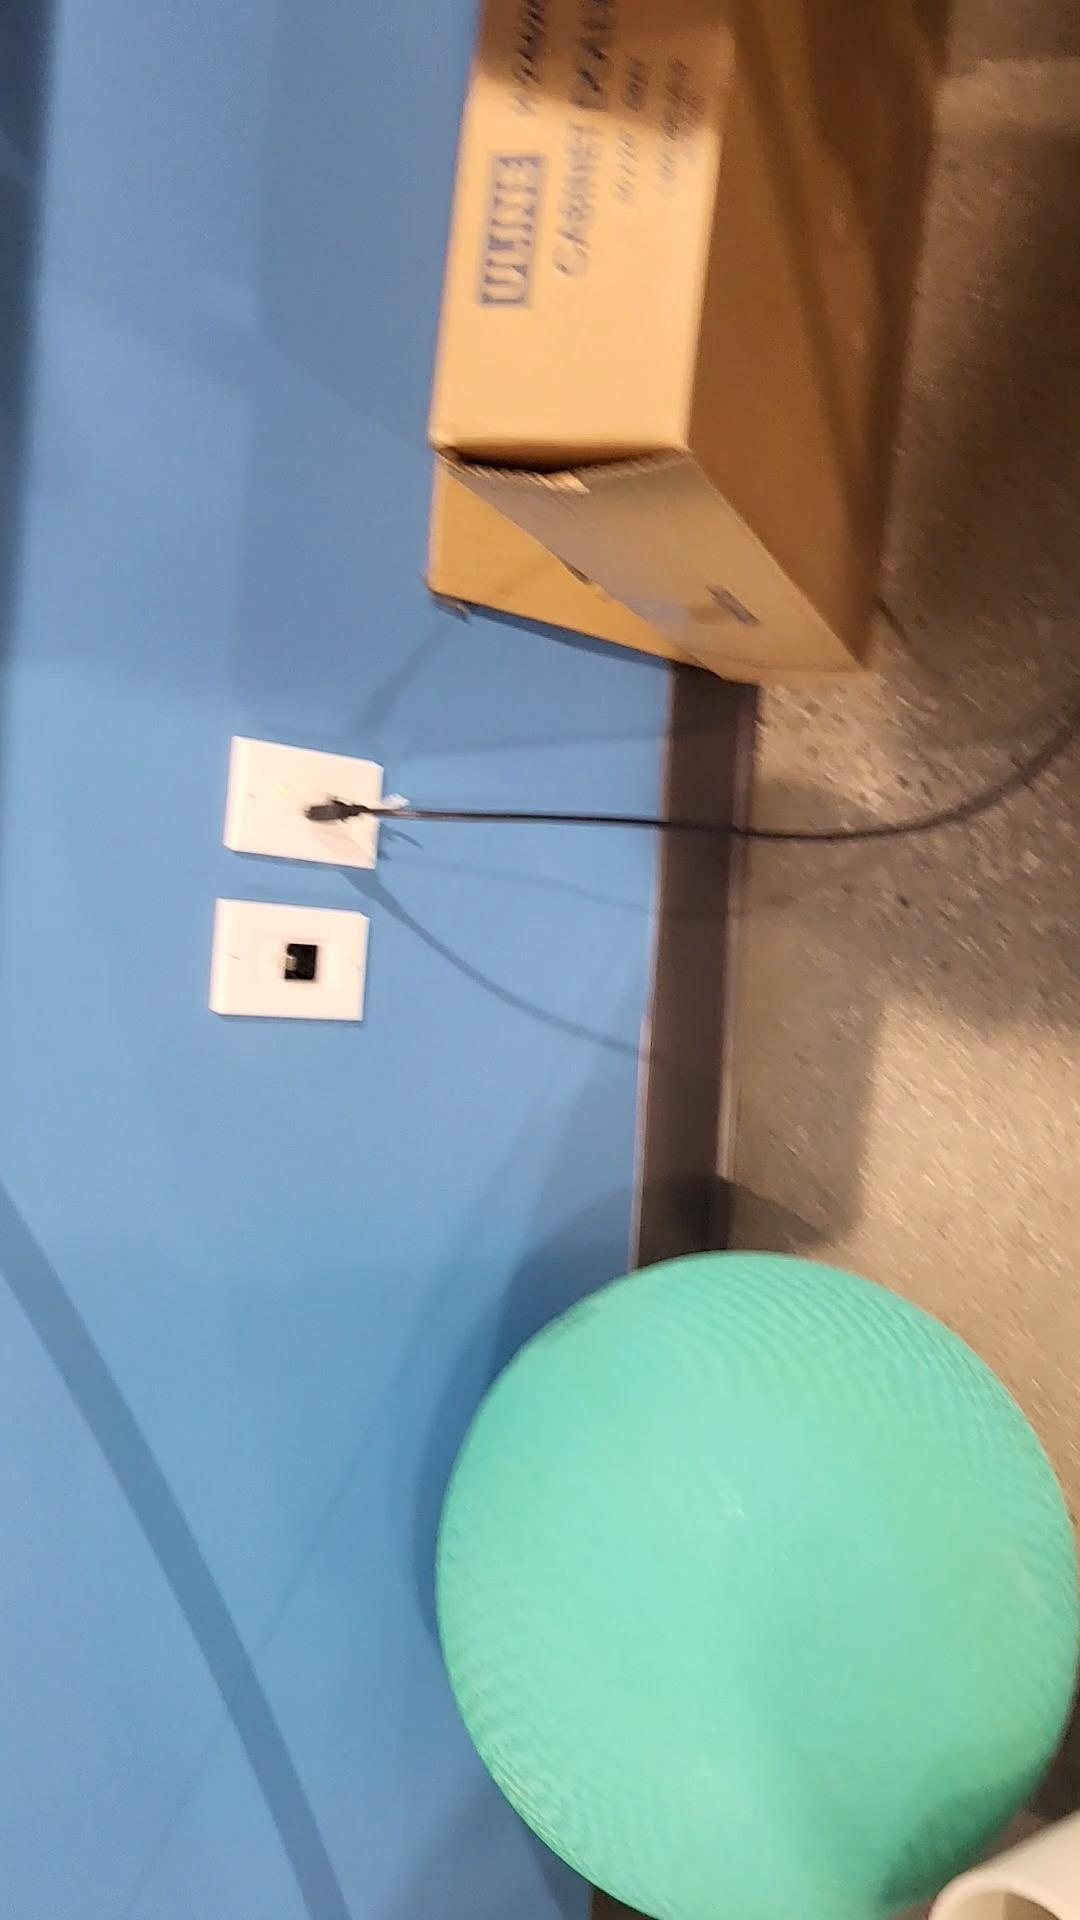algae: (438, 1261, 1080, 1920)
coral: (927, 1811, 1080, 1920)
